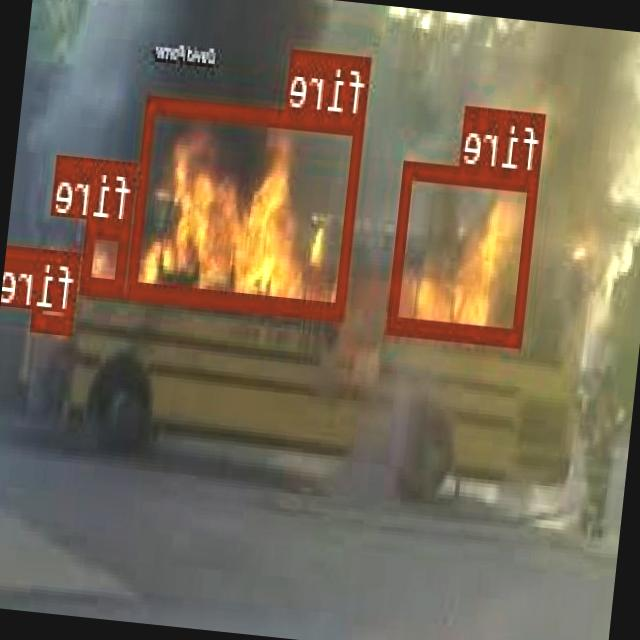fire: (128, 94, 367, 318), (389, 160, 542, 342), (34, 246, 82, 331), (82, 218, 132, 296)
